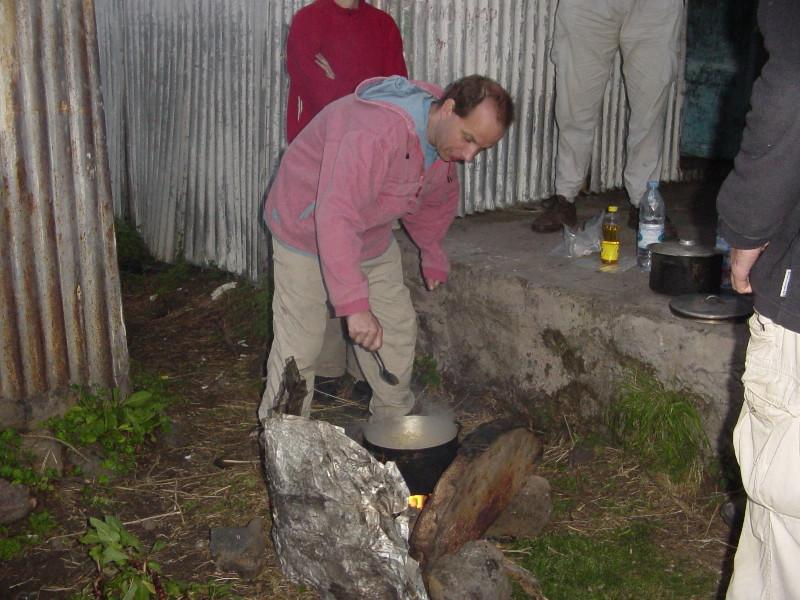person: (261, 72, 523, 417)
